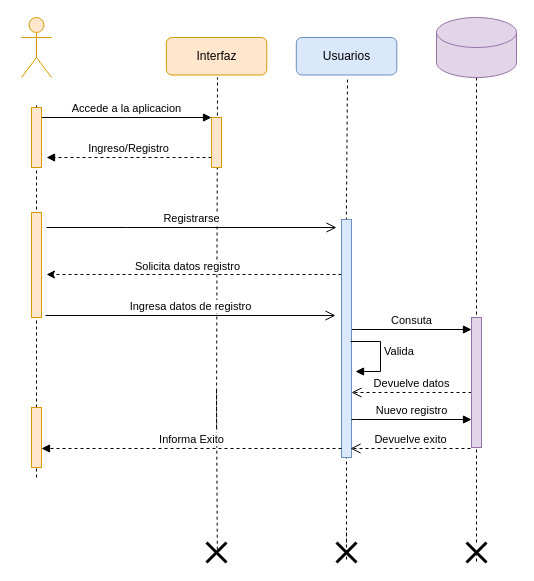
The diagram is 534 pixels wide and 581 high, and some of its shapes have lost their labels. The centre of each missing label's shape, as x and y in pixels:
"asesor" goes at (36,47).
"Base de Datos" goes at (476,47).
